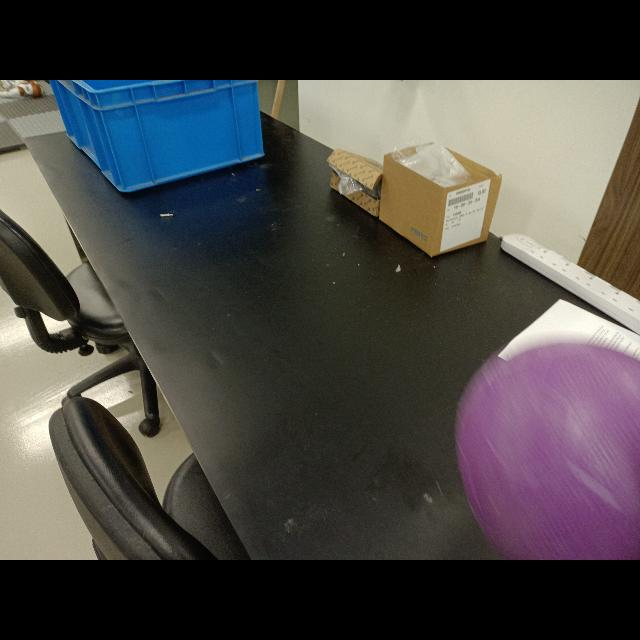P: (456, 342, 640, 560)
